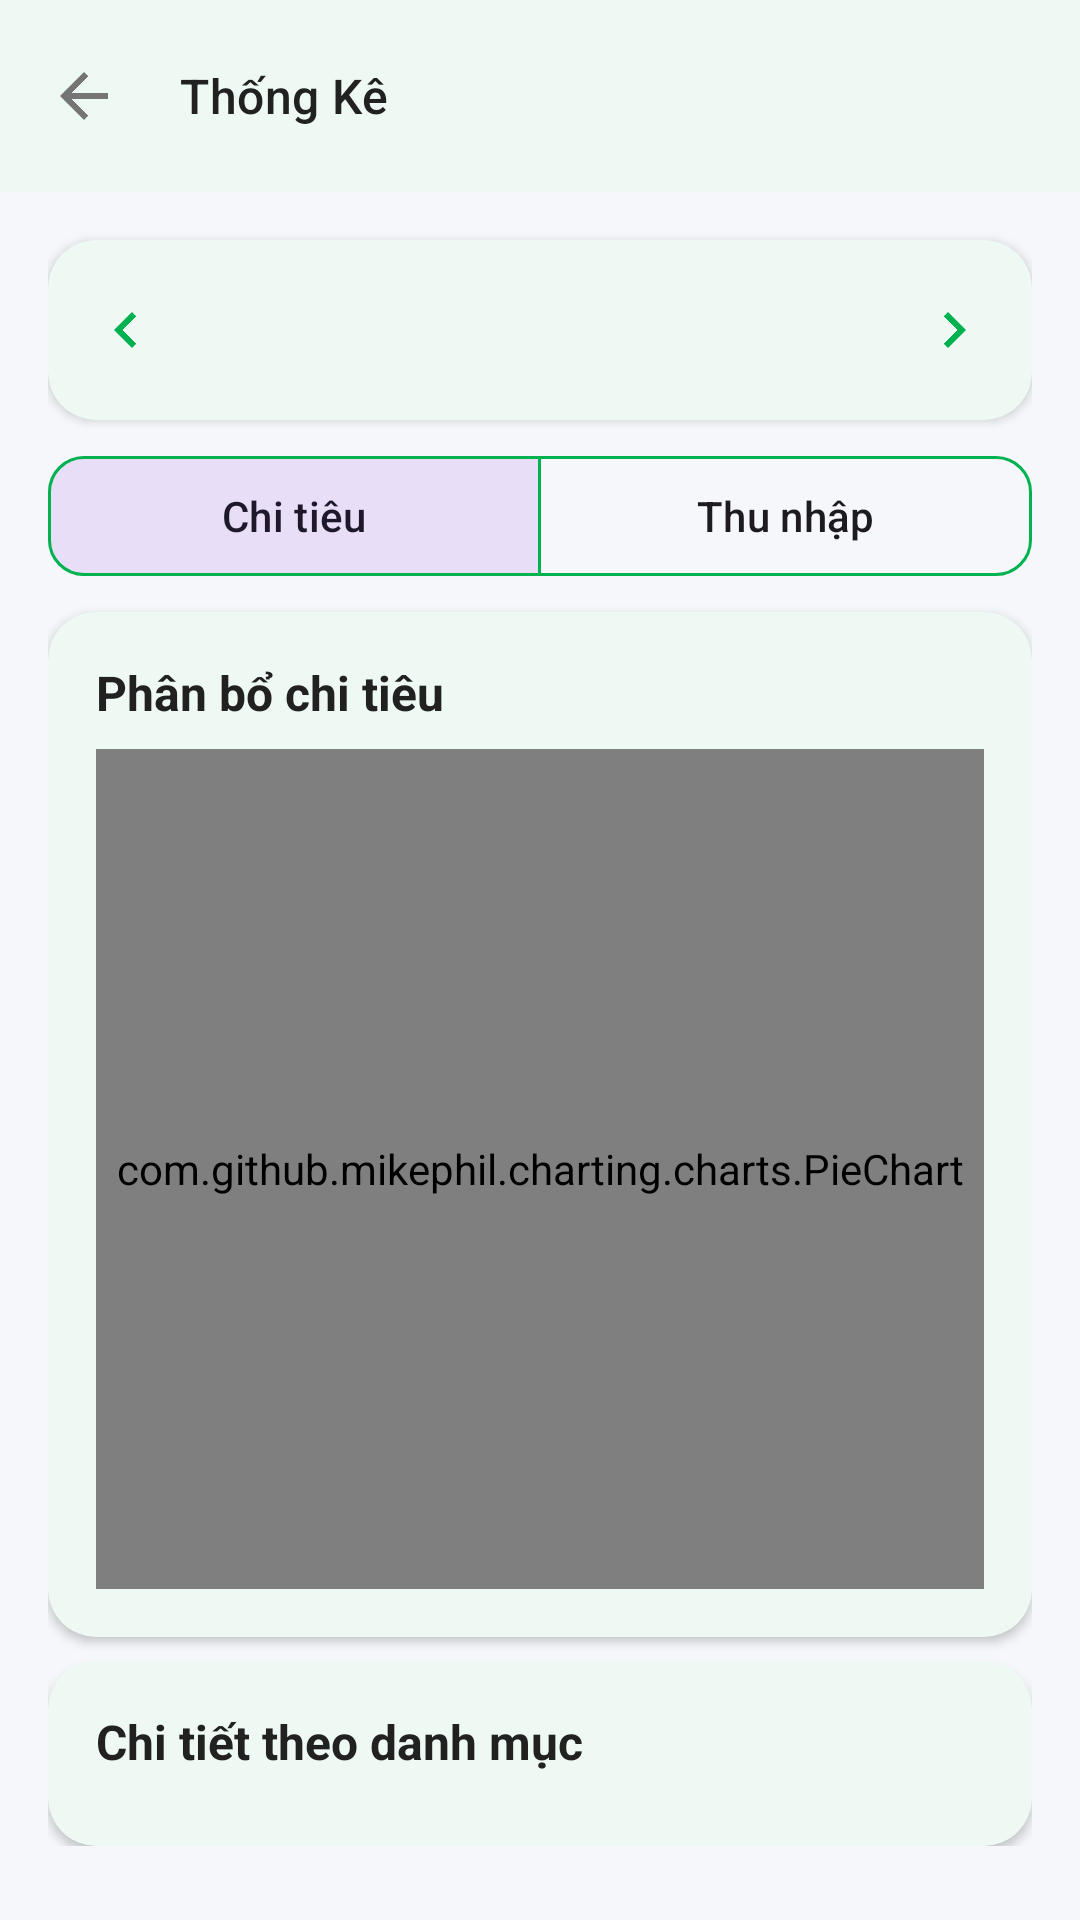

Where icons sit on this 1080*1920 app screen, as {"x1": x1, "y1": y1, "x2": x2, "y2": y2}:
Tháng sau: {"x1": 944, "y1": 312, "x2": 966, "y2": 348}
Tháng trước: {"x1": 114, "y1": 312, "x2": 136, "y2": 348}
